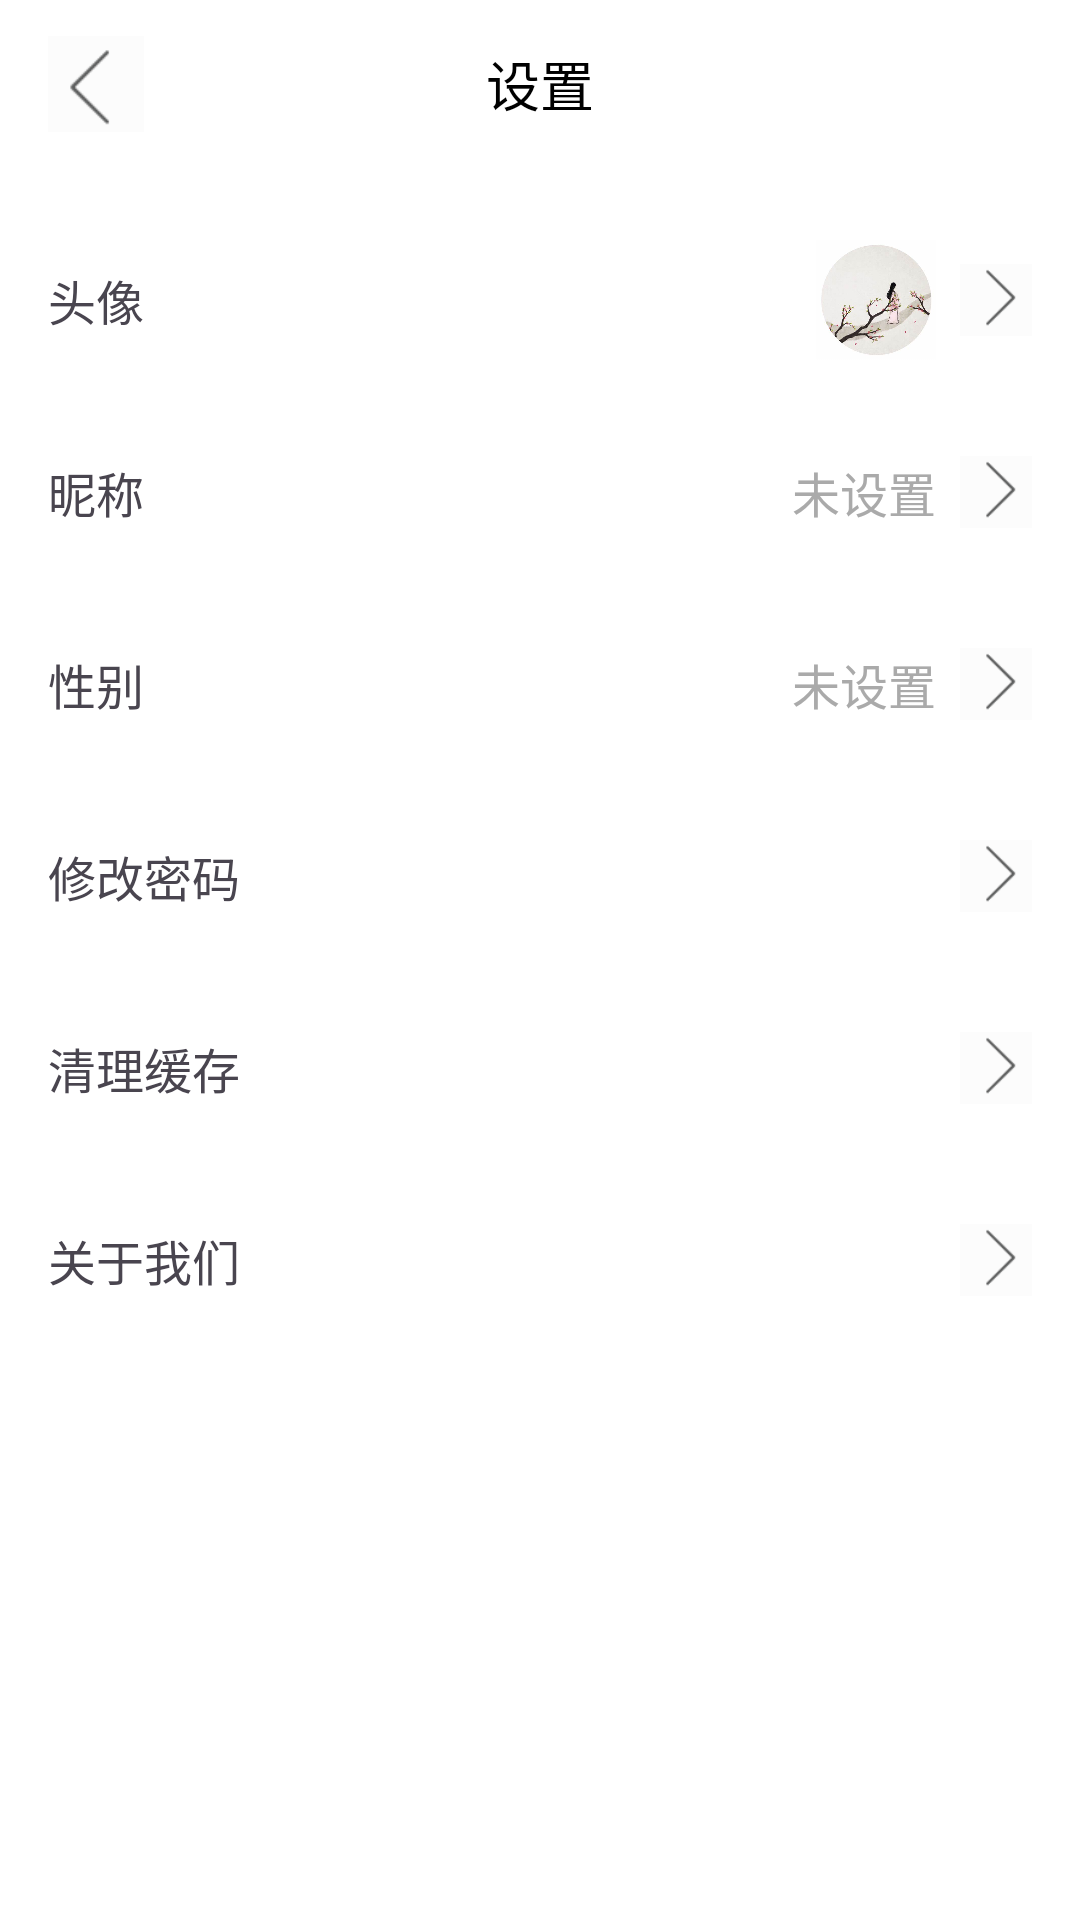

Screen size 1080×1920. Icon name, then its box in pixels as (x1,y1,x2,y2):
open: (986,270,1016,325), (986,462,1016,517), (986,654,1016,709), (986,846,1016,901), (986,1038,1016,1093), (986,1230,1016,1285)
return: (70,50,109,124)
user: (822,245,931,355)
